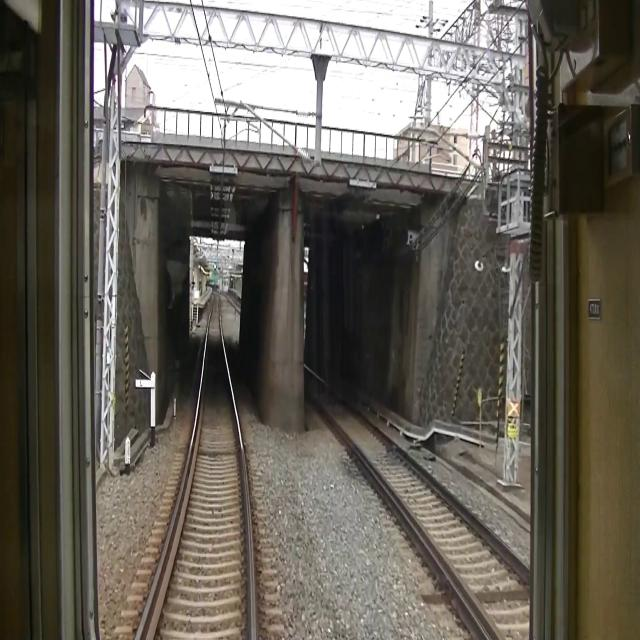rail-track: (304, 368, 527, 639), (139, 294, 250, 639), (225, 292, 240, 312)
